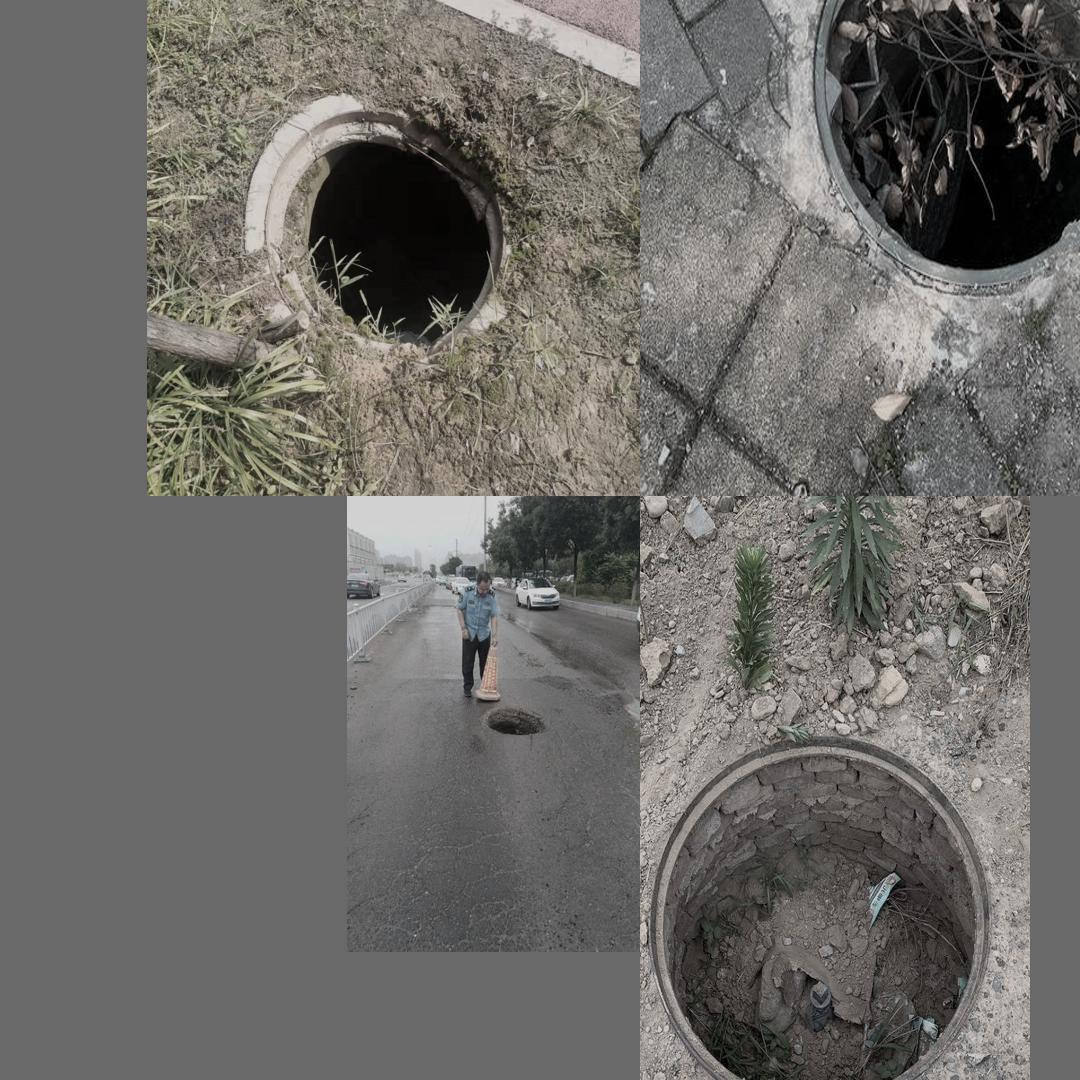lose: (651, 724, 1003, 1080), (815, 0, 1080, 295), (244, 90, 513, 351), (477, 699, 557, 741)
